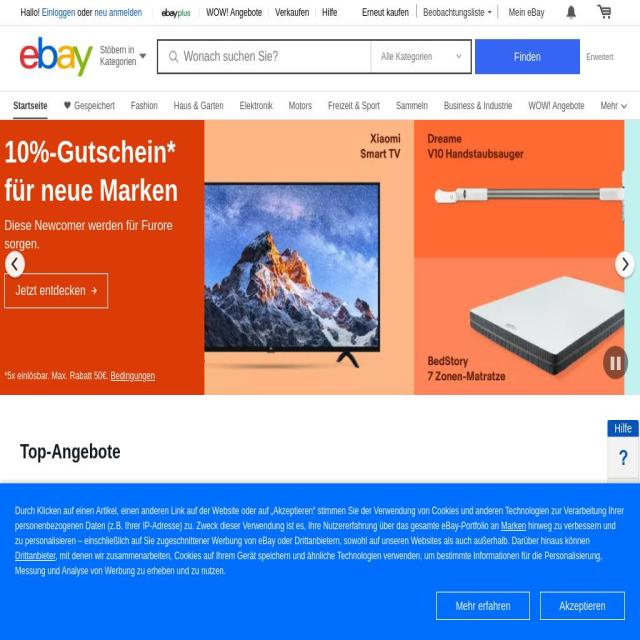button: (34, 485, 108, 623), (200, 485, 274, 623), (532, 485, 606, 623), (366, 485, 439, 623), (118, 485, 190, 623), (284, 485, 356, 623), (450, 485, 522, 623), (20, 274, 124, 312), (20, 36, 93, 76), (436, 592, 531, 620), (540, 592, 626, 620), (96, 36, 152, 72), (416, 1, 498, 22), (580, 40, 620, 73), (608, 478, 638, 520), (608, 437, 638, 478), (502, 1, 551, 22), (555, 1, 587, 22), (590, 1, 618, 22), (126, 370, 171, 382)
field: (159, 41, 368, 72), (475, 39, 580, 74), (370, 41, 470, 72)
heading: (20, 135, 194, 207), (20, 36, 176, 76), (20, 438, 121, 465), (34, 591, 108, 623), (200, 591, 274, 623), (532, 591, 606, 623), (366, 591, 439, 623), (118, 591, 190, 623), (284, 591, 356, 623), (450, 591, 522, 623), (608, 422, 638, 435)
image: (159, 8, 194, 18), (597, 4, 611, 19), (618, 450, 628, 465), (618, 492, 628, 506), (138, 53, 148, 59), (486, 10, 491, 15)
link: (444, 100, 513, 112), (528, 100, 584, 112), (206, 7, 263, 18), (328, 100, 380, 112), (174, 100, 224, 112), (362, 6, 409, 18), (94, 7, 142, 18), (15, 550, 56, 562), (74, 100, 115, 112), (240, 100, 272, 112), (396, 100, 428, 112), (42, 7, 76, 18), (275, 7, 309, 18), (130, 100, 158, 112), (501, 520, 526, 532), (288, 100, 312, 112), (322, 7, 337, 18)
text: (15, 505, 624, 532), (15, 520, 616, 547), (15, 550, 602, 577), (20, 218, 188, 252), (20, 370, 124, 382), (32, 284, 104, 298), (100, 44, 136, 68), (423, 6, 485, 18), (13, 100, 48, 119), (126, 370, 172, 382), (20, 7, 42, 18), (601, 100, 618, 112), (77, 7, 94, 18), (566, 4, 576, 20)
